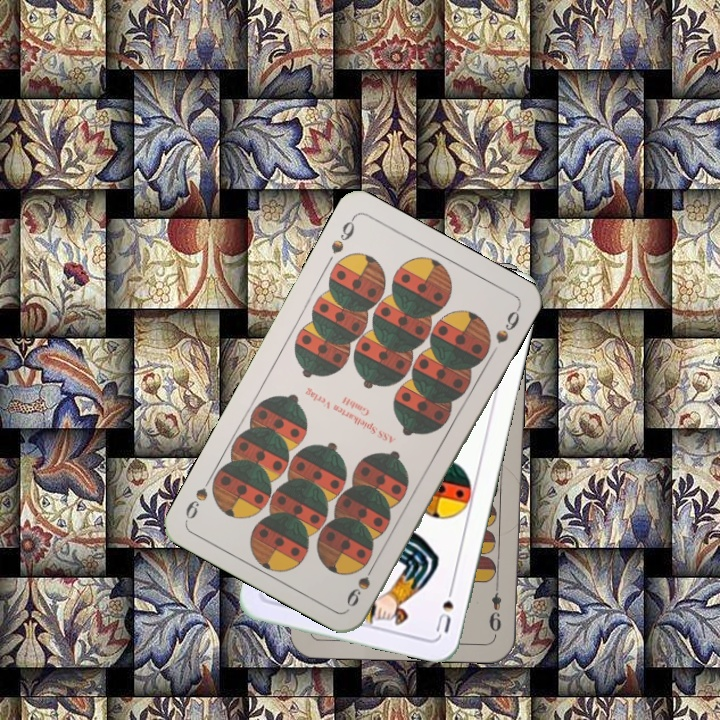E9: (485, 578, 505, 637)
S9: (342, 556, 380, 610), (326, 213, 358, 257)
SU: (431, 579, 457, 636)
